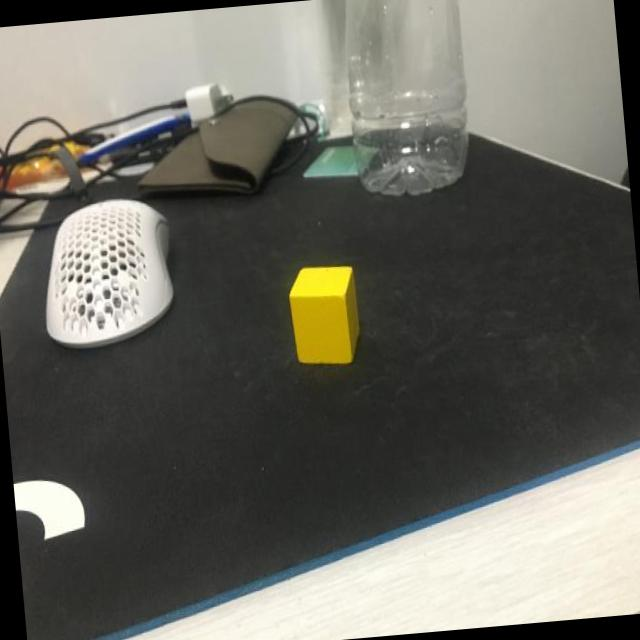yellow: (286, 261, 364, 370)
